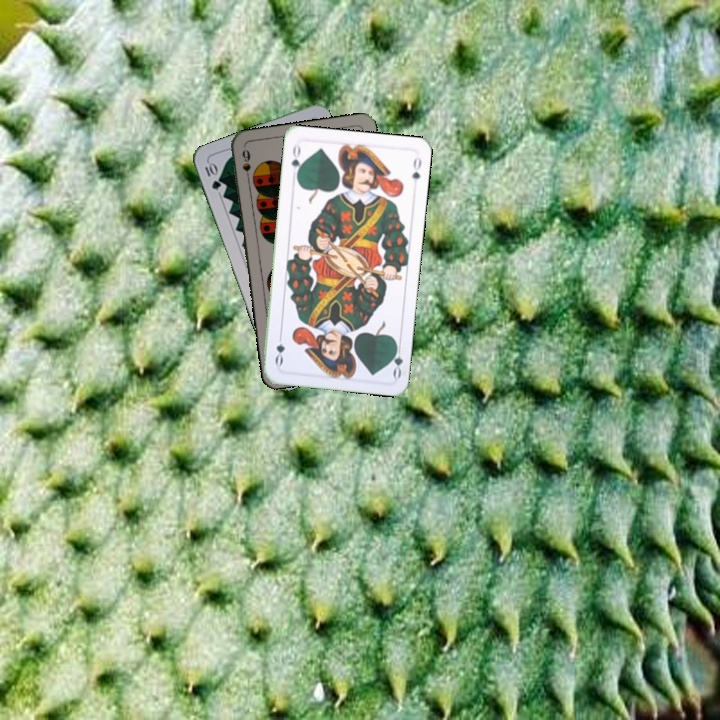G10: (201, 159, 223, 192)
GO: (387, 339, 405, 380), (287, 141, 304, 181)
S9: (238, 145, 253, 186)
